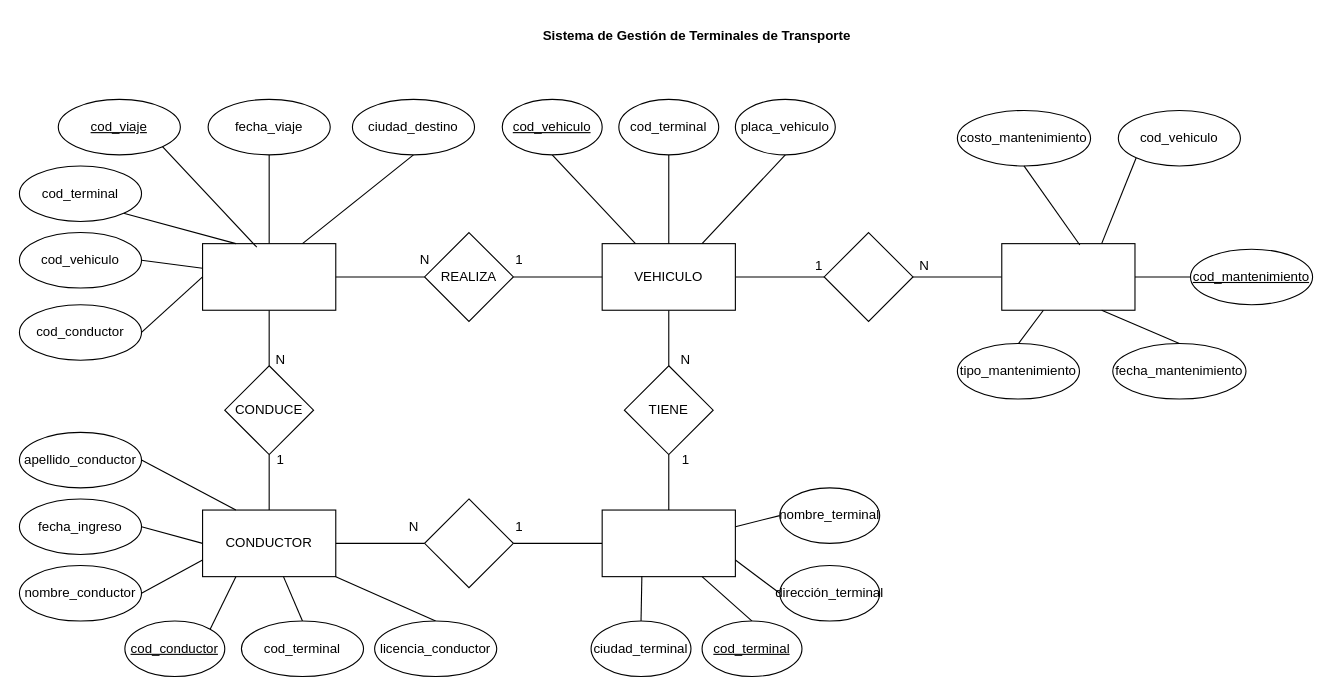
This 1332x696 diagram has some shape labels left out. Each missing label, with the centre of its shape:
EMPLEA: point 468,543
MANTENIMIENTO: point 1068,276
RECIBE: point 868,276
TERMINAL: point 668,543
VIAJE: point 268,276
